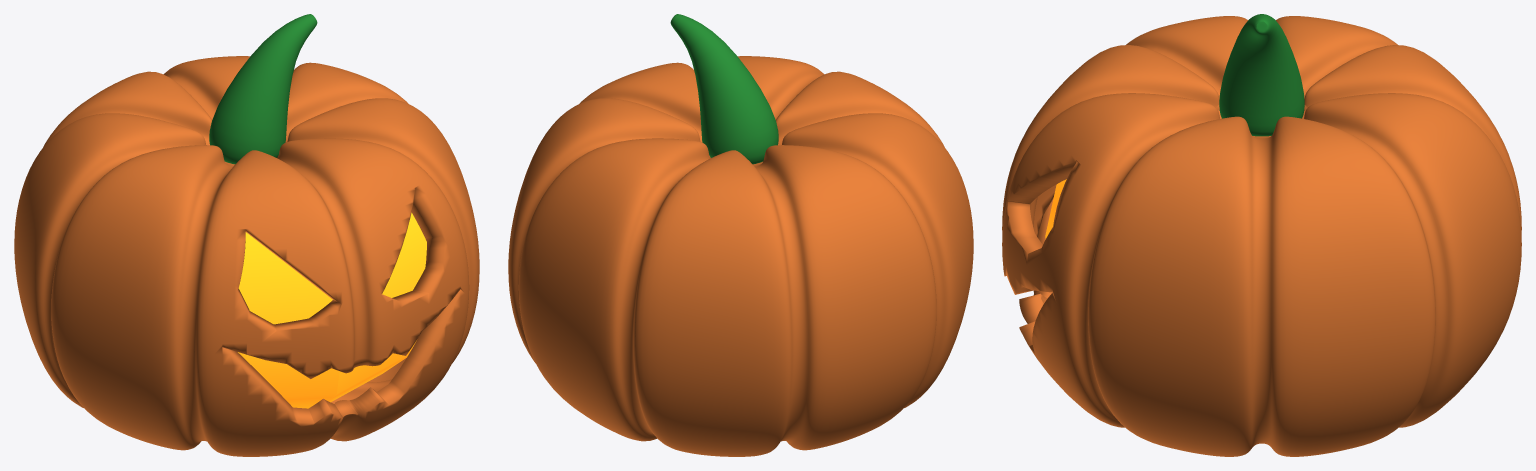
The model's file is pump.fbx.
3 views of the same model, side by side, from view 1: azimuth 30°, elevation 25°; view 2: azimuth 150°, elevation 25°; view 3: azimuth 270°, elevation 25° (orthographic). The views are drawn at different scales.
Visible parts, largest first — view 1: Body, Inner, Head; view 2: Body, Head; view 3: Body, Head.
Part boxes in pixels (x1,y1,x2,y2): Body: [14, 56, 479, 456]; Inner: [238, 212, 426, 408]; Head: [209, 14, 317, 164]; Body: [508, 56, 973, 456]; Head: [670, 14, 778, 164]; Body: [1002, 16, 1521, 456]; Head: [1219, 14, 1304, 136].
Size of the model in its own units: 183 by 158 by 183.
